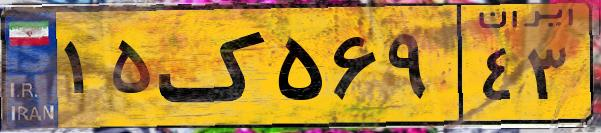1: (57, 26, 110, 100)
3: (525, 38, 570, 115)
4: (475, 38, 525, 113)
5: (270, 28, 330, 110), (110, 28, 158, 98)
6: (330, 28, 385, 110)
9: (385, 28, 445, 110)
ک: (158, 12, 270, 120)
